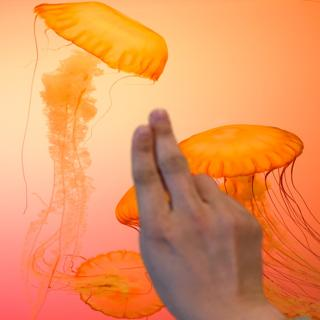DHAVE: (121, 103, 269, 318)
